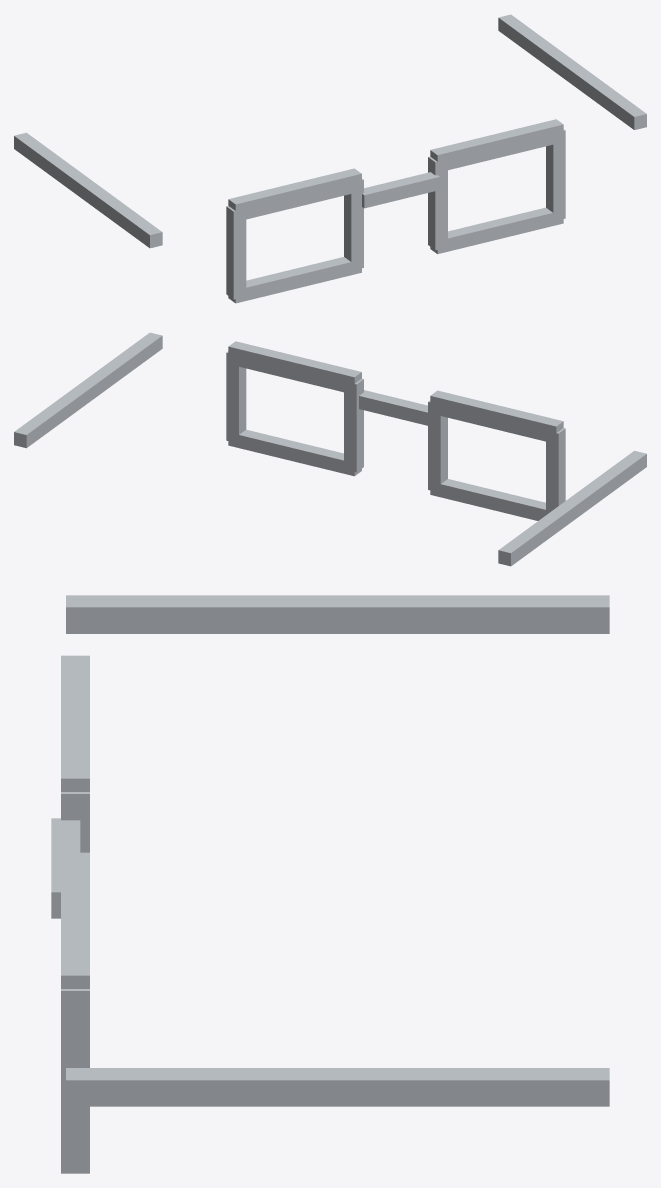
Rendered from npc_gear_glasses.fbx.
3 renders of one model, top to bottom at view 1: azimuth 30°, elevation 25°; view 2: azimuth 150°, elevation 25°; view 3: azimuth 270°, elevation 25°, orthographic. The views are drawn at different scales.
Parts seen in each view (by area): view 1: npc_gear_glasses; view 2: npc_gear_glasses; view 3: npc_gear_glasses.
Boxes of the visible parts, x1,y1,x2,y2 form: npc_gear_glasses: (14, 14, 646, 303); npc_gear_glasses: (14, 332, 646, 566); npc_gear_glasses: (51, 595, 609, 1173).
Size of the model in its own units: 118 by 22.5 by 57.5.
